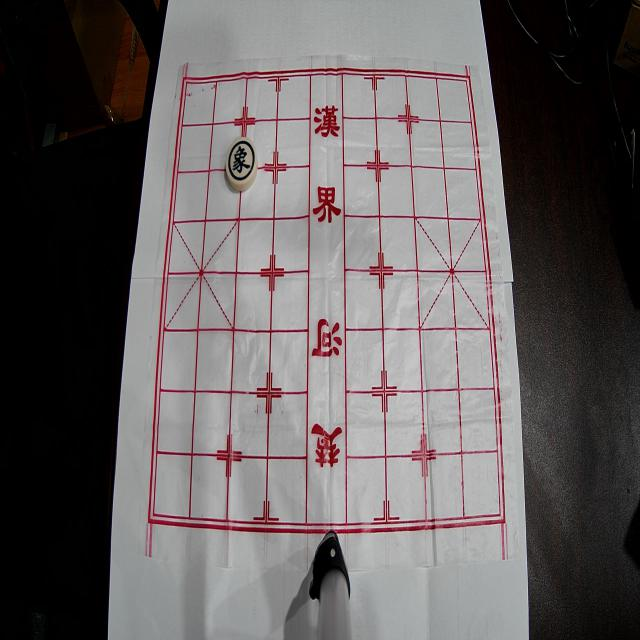black-elephant: (226, 137, 258, 191)
